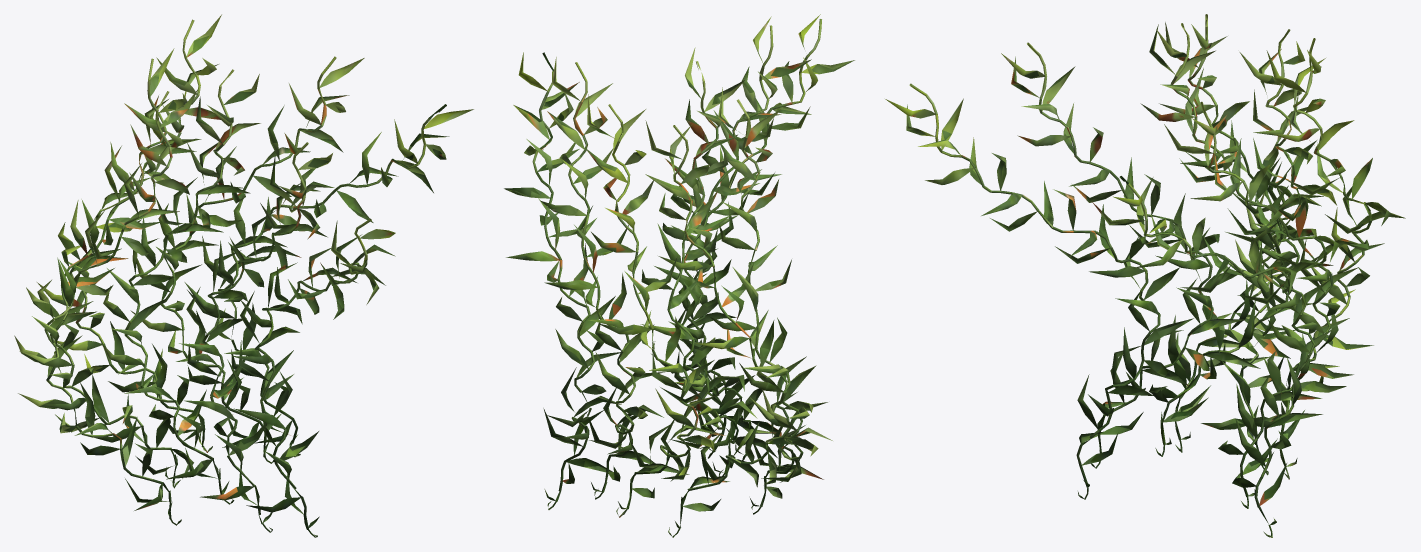
File: plant_56.fbx
3 renders of one model, left to right at view 1: azimuth 30°, elevation 25°; view 2: azimuth 150°, elevation 25°; view 3: azimuth 270°, elevation 25°, orthographic. The views are drawn at different scales.
Parts seen in each view (by area): view 1: aquatic28; view 2: aquatic28; view 3: aquatic28.
Part boxes in pixels (bbox=[...]): aquatic28: bbox=[14, 14, 473, 537]; aquatic28: bbox=[504, 14, 854, 537]; aquatic28: bbox=[885, 14, 1405, 537].
Bounding box in the file's own units: 7.13 × 8.18 × 8.36.
